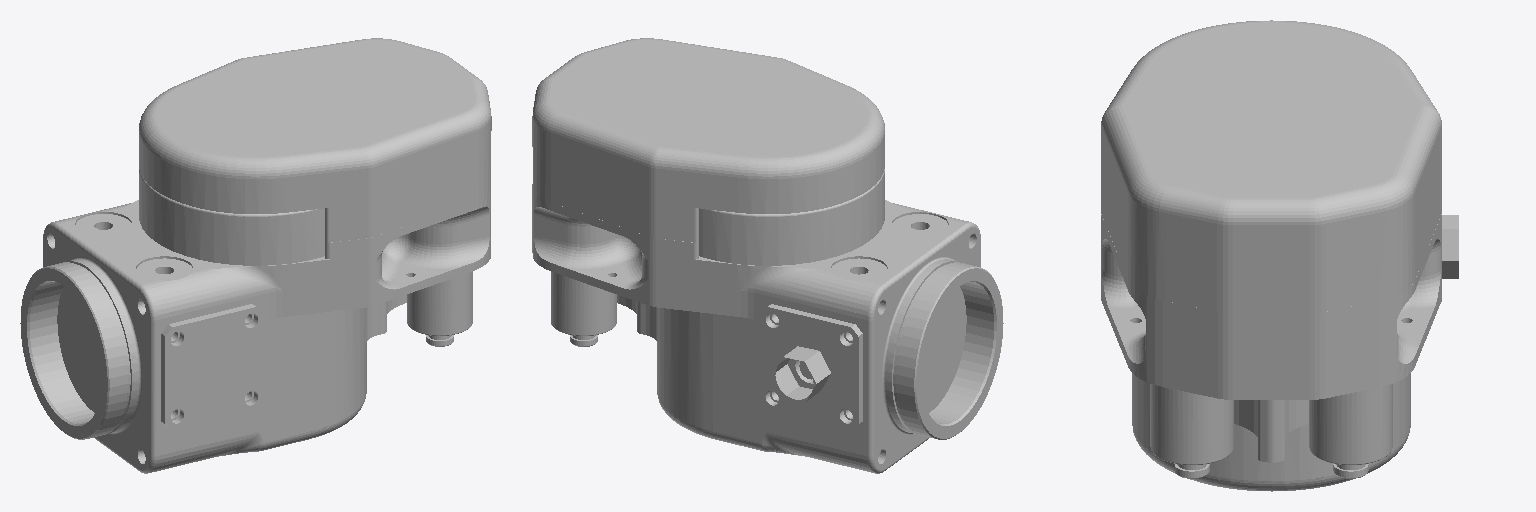
robot.urdf — hdt_arm:
<?xml version="1.0" ?>
<!-- =================================================================================== -->
<!-- |    This document was autogenerated by xacro from hdt_angler_a.xacro             | -->
<!-- |    EDITING THIS FILE BY HAND IS NOT RECOMMENDED                                 | -->
<!-- =================================================================================== -->
<robot name="hdt_arm" xmlns:xacro="http://wiki.ros.org/xacro">

  <!-- materials -->
  <material name="black">
    <color rgba="0.78431372549 0.78431372549 0.78431372549 1.0"/>
  </material>
  <material name="grey">
    <color rgba="0.250980392157 0.250980392157 0.250980392157 1.0"/>
  </material>
  <material name="yellow">
    <color rgba="0.941176470588 0.878431372549 0.250980392157 1.0"/>
  </material>
  <!-- segment 0 -->
  <link name="base_link"/>
  <!-- pedestal -->
  <joint name="pedestal_joint" type="fixed">
    <origin rpy="0 0 0" xyz="0 0 0"/>
    <parent link="base_link"/>
    <child link="pedestal_link"/>
  </joint>
  <link name="pedestal_link">
    <collision>
      <origin rpy="0 0 0" xyz="0 0 0"/>
      <geometry>
        <mesh filename="meshes/H026994 - A35 M-2 PEDESTAL ASSY - SHAREABLE.STL"/>
      </geometry>
    </collision>
    <visual>
      <origin rpy="0 0 0" xyz="0 0 0"/>
      <geometry>
        <mesh filename="meshes/H026994 - A35 M-2 PEDESTAL ASSY - SHAREABLE.STL"/>
      </geometry>
      <material name="black"/>
    </visual>
    <inertial>
      <origin rpy="0 0 0" xyz="0 0 0"/>
      <mass value="1"/>
      <inertia ixx="0.05" ixy="0.01" ixz="0.01" iyy="0.05" iyz="0.01" izz="0.05"/>
    </inertial>
  </link>
  <!-- drive 1 -->
  <joint name="drive1_joint" type="revolute">
    <axis xyz="0 0 1"/>
    <limit effort="60.0" lower="-6.28318530718" upper="6.28318530718" velocity="0.785398163397"/>
    <origin rpy="0 0 -1.57079632679" xyz="0 0 0.08335"/>
    <parent link="pedestal_link"/>
    <child link="drive1_link"/>
    <dynamics damping="10.7" friction="10.0"/>
  </joint>
  <link name="drive1_link">
    <collision>
      <origin rpy="0 0 0" xyz="0 0 0"/>
      <geometry>
        <mesh filename="meshes/H024840 - A35 M-2 DRIVE MODULE, SHAREABLE.STL"/>
      </geometry>
    </collision>
    <visual>
      <origin rpy="0 0 0" xyz="0 0 0"/>
      <geometry>
        <mesh filename="meshes/H024840 - A35 M-2 DRIVE MODULE, SHAREABLE.STL"/>
      </geometry>
      <material name="black"/>
    </visual>
    <inertial>
      <origin rpy="0 0 0" xyz="0 0 0"/>
      <mass value="1"/>
      <inertia ixx="0.05" ixy="0.01" ixz="0.01" iyy="0.05" iyz="0.01" izz="0.05"/>
    </inertial>
  </link>
  <!-- drive 2 -->
  <joint name="drive2_joint" type="revolute">
    <axis xyz="0 0 1"/>
    <limit effort="60.0" lower="-1.57079632679" upper="1.57079632679" velocity="0.785398163397"/>
    <origin rpy="0 -1.57079632679 0" xyz="0.07155 0 0"/>
    <parent link="drive1_link"/>
    <child link="drive2_link"/>
    <dynamics damping="10.7" friction="10.0"/>
  </joint>
  <link name="drive2_link">
    <collision>
      <origin rpy="3.14159265359 0 0" xyz="0 0 0"/>
      <geometry>
        <mesh filename="meshes/H024840 - A35 M-2 DRIVE MODULE, SHAREABLE.STL"/>
      </geometry>
    </collision>
    <visual>
      <origin rpy="3.14159265359 0 0" xyz="0 0 0"/>
      <geometry>
        <mesh filename="meshes/H024840 - A35 M-2 DRIVE MODULE, SHAREABLE.STL"/>
      </geometry>
      <material name="black"/>
    </visual>
    <inertial>
      <origin rpy="3.14159265359 0 0" xyz="0 0 0"/>
      <mass value="1"/>
      <inertia ixx="0.05" ixy="0.01" ixz="0.01" iyy="0.05" iyz="0.01" izz="0.05"/>
    </inertial>
  </link>
  <!-- humerus -->
  <joint name="humerus_joint" type="fixed">
    <origin rpy="0 0 0" xyz="0.17855 0 0"/>
    <parent link="drive2_link"/>
    <child link="humerus_link"/>
  </joint>
  <link name="humerus_link">
    <collision>
      <origin rpy="0 0 0" xyz="0 0 0"/>
      <geometry>
        <mesh filename="meshes/H024847 - A35 M-2 PROXIMAL TUBE ASSY - SHAREABLE.STL"/>
      </geometry>
    </collision>
    <visual>
      <origin rpy="0 0 0" xyz="0 0 0"/>
      <geometry>
        <mesh filename="meshes/H024847 - A35 M-2 PROXIMAL TUBE ASSY - SHAREABLE.STL"/>
      </geometry>
      <material name="black"/>
    </visual>
    <inertial>
      <origin rpy="0 0 0" xyz="0 0 0"/>
      <mass value="1"/>
      <inertia ixx="0.05" ixy="0.01" ixz="0.01" iyy="0.05" iyz="0.01" izz="0.05"/>
    </inertial>
  </link>
  <!-- elbow -->
  <joint name="elbow_joint" type="fixed">
    <origin rpy="0 0 0" xyz="0.17855 0 0"/>
    <parent link="humerus_link"/>
    <child link="elbow_link"/>
  </joint>
  <link name="elbow_link">
    <collision>
      <origin rpy="0 3.14159265359 0" xyz="0 0 0"/>
      <geometry>
        <mesh filename="meshes/H024840 - A35 M-2 DRIVE MODULE, SHAREABLE.STL"/>
      </geometry>
    </collision>
    <visual>
      <origin rpy="0 3.14159265359 0" xyz="0 0 0"/>
      <geometry>
        <mesh filename="meshes/H024840 - A35 M-2 DRIVE MODULE, SHAREABLE.STL"/>
      </geometry>
      <material name="black"/>
    </visual>
    <inertial>
      <origin rpy="0 3.14159265359 0" xyz="0 0 0"/>
      <mass value="1"/>
      <inertia ixx="0.05" ixy="0.01" ixz="0.01" iyy="0.05" iyz="0.01" izz="0.05"/>
    </inertial>
  </link>
  <!-- drive 3 -->
  <joint name="drive3_joint" type="revolute">
    <axis xyz="0 0 1"/>
    <!-- position limits to match parameter settings on actuator -->
    <limit effort="60.0" lower="-4.49" upper="1.35" velocity="0.785398163397"/>
    <origin rpy="0 0 0" xyz="0 0 0.07155"/>
    <parent link="elbow_link"/>
    <child link="drive3_link"/>
    <dynamics damping="10.7" friction="10.0"/>
  </joint>
  <link name="drive3_link">
    <collision>
      <origin rpy="0 1.57079632679 -1.57079632679" xyz="0 0 0"/>
      <geometry>
        <mesh filename="meshes/H024840 - A35 M-2 DRIVE MODULE, SHAREABLE.STL"/>
      </geometry>
    </collision>
    <visual>
      <origin rpy="0 1.57079632679 -1.57079632679" xyz="0 0 0"/>
      <geometry>
        <mesh filename="meshes/H024840 - A35 M-2 DRIVE MODULE, SHAREABLE.STL"/>
      </geometry>
      <material name="black"/>
    </visual>
    <inertial>
      <origin rpy="0 1.57079632679 -1.57079632679" xyz="0 0 0"/>
      <mass value="1"/>
      <inertia ixx="0.05" ixy="0.01" ixz="0.01" iyy="0.05" iyz="0.01" izz="0.05"/>
    </inertial>
  </link>
  <!-- drive 4 -->
  <joint name="drive4_joint" type="revolute">
    <axis xyz="0 0 1"/>
    <limit effort="60.0" lower="-6.28318530718" upper="6.28318530718" velocity="0.785398163397"/>
    <origin rpy="-1.57079632679 0 0" xyz="0 0.142 0"/>
    <parent link="drive3_link"/>
    <child link="drive4_link"/>
    <dynamics damping="10.7" friction="10.0"/>
  </joint>
  <link name="drive4_link">
    <collision>
      <origin rpy="3.14159265359 0 0" xyz="0 0 0"/>
      <geometry>
        <mesh filename="meshes/H024848 - A35 M-2 DISTAL TUBE ASSY - SHAREABLE.STL"/>
      </geometry>
    </collision>
    <visual>
      <origin rpy="3.14159265359 0 0" xyz="0 0 0"/>
      <geometry>
        <mesh filename="meshes/H024848 - A35 M-2 DISTAL TUBE ASSY - SHAREABLE.STL"/>
      </geometry>
      <material name="black"/>
    </visual>
    <inertial>
      <origin rpy="3.14159265359 0 0" xyz="0 0 0"/>
      <mass value="1"/>
      <inertia ixx="0.05" ixy="0.01" ixz="0.01" iyy="0.05" iyz="0.01" izz="0.05"/>
    </inertial>
  </link>
  <!-- wrist -->
  <joint name="wrist_joint" type="fixed">
    <origin rpy="1.57079632679 -1.57079632679 3.14159265359" xyz="0 0 0.12955"/>
    <parent link="drive4_link"/>
    <child link="wrist_link"/>
  </joint>
  <link name="wrist_link">
    <collision>
      <origin rpy="0 0 3.14159265359" xyz="0 0 0"/>
      <geometry>
        <mesh filename="meshes/H024840 - A35 M-2 DRIVE MODULE, SHAREABLE.STL"/>
      </geometry>
    </collision>
    <visual>
      <origin rpy="0 0 3.14159265359" xyz="0 0 0"/>
      <geometry>
        <mesh filename="meshes/H024840 - A35 M-2 DRIVE MODULE, SHAREABLE.STL"/>
      </geometry>
      <material name="black"/>
    </visual>
    <inertial>
      <origin rpy="0 0 3.14159265359" xyz="0 0 0"/>
      <mass value="1"/>
      <inertia ixx="0.05" ixy="0.01" ixz="0.01" iyy="0.05" iyz="0.01" izz="0.05"/>
    </inertial>
  </link>
  <!-- drive 5 -->
  <joint name="drive5_joint" type="revolute">
    <axis xyz="0 0 1"/>
    <limit effort="60.0" lower="-6.28318530718" upper="6.28318530718" velocity="0.785398163397"/>
    <origin rpy="3.14159265359 0 0" xyz="0 0 -0.07155"/>
    <parent link="wrist_link"/>
    <child link="drive5_link"/>
    <dynamics damping="10.7" friction="10.0"/>
  </joint>
  <link name="drive5_link">
    <collision>
      <origin rpy="0 1.57079632679 3.14159265359" xyz="0 0 0"/>
      <geometry>
        <mesh filename="meshes/H024840 - A35 M-2 DRIVE MODULE, SHAREABLE.STL"/>
      </geometry>
    </collision>
    <visual>
      <origin rpy="0 1.57079632679 3.14159265359" xyz="0 0 0"/>
      <geometry>
        <mesh filename="meshes/H024840 - A35 M-2 DRIVE MODULE, SHAREABLE.STL"/>
      </geometry>
      <material name="black"/>
    </visual>
    <inertial>
      <origin rpy="0 0 0" xyz="0 0 0"/>
      <mass value="1"/>
      <inertia ixx="0.05" ixy="0.01" ixz="0.01" iyy="0.05" iyz="0.01" izz="0.05"/>
    </inertial>
  </link>
  <!-- drive 6 -->
  <joint name="drive6_joint" type="revolute">
    <axis xyz="0 0 1"/>
    <limit effort="60.0" lower="-6.28318530718" upper="6.28318530718" velocity="0.785398163397"/>
    <origin rpy="0 1.57079632679 0" xyz="0.0885 0 0"/>
    <parent link="drive5_link"/>
    <child link="drive6_link"/>
    <dynamics damping="10.7" friction="10.0"/>
  </joint>
  <link name="drive6_link">
    <collision>
      <origin rpy="0 1.57079632679 -1.57079632679" xyz="0 0 0"/>
      <geometry>
        <mesh filename="meshes/H024842 - A35 M-2 PINCER ASSY - SHAREABLE, UNDERWATER.STL"/>
      </geometry>
    </collision>
    <visual>
      <origin rpy="0 1.57079632679 -1.57079632679" xyz="0 0 0"/>
      <geometry>
        <mesh filename="meshes/H024842 - A35 M-2 PINCER ASSY - SHAREABLE, UNDERWATER.STL"/>
      </geometry>
      <material name="black"/>
    </visual>
    <inertial>
      <origin rpy="0 0 0" xyz="0 0 0"/>
      <mass value="1"/>
      <inertia ixx="0.05" ixy="0.01" ixz="0.01" iyy="0.05" iyz="0.01" izz="0.05"/>
    </inertial>
  </link>
  <!-- Pincers -->
  <joint name="pincer_joint" type="revolute">
    <hdt id="10" inertia="0.075" kmax="150" kmin="75"/>
    <axis xyz="0 0 1"/>
    <limit effort="60.0" lower="-0.2" upper="0.9" velocity="0.5"/>
    <origin rpy="-1.57079632679 -1.57079632679 0" xyz="0.0135 0 0.0375"/>
    <parent link="drive6_link"/>
    <child link="pincer_link"/>
    <dynamics damping="10.7" friction="10.0"/>
  </joint>
  <link name="pincer_link">
    <collision>
      <origin rpy="3.14159265359 0 0" xyz="0 0 0"/>
      <geometry>
        <mesh filename="meshes/H022927 - A35 PINCER FINGER, LONG, OVERMOLD ASSY - SHAREABLE.STL"/>
      </geometry>
    </collision>
    <visual>
      <origin rpy="3.14159265359 0 0" xyz="0 0 0"/>
      <geometry>
        <mesh filename="meshes/H022927 - A35 PINCER FINGER, LONG, OVERMOLD ASSY - SHAREABLE.STL"/>
      </geometry>
      <material name="black"/>
    </visual>
    <inertial>
      <origin rpy="0 0 0" xyz="0 0 0"/>
      <mass value="1"/>
      <inertia ixx="0.05" ixy="0.01" ixz="0.01" iyy="0.05" iyz="0.01" izz="0.05"/>
    </inertial>
  </link>
  <!-- EE 2 -->
  <!-- THIS IS THE SECOND PINCER, NEEDS TO MOVE EQUAL BUT OPPOSITE AS PINCER 1 -->
  <joint name="pincer_joint2" type="revolute">
    <!--<hdt id="10b" kmin="75" kmax="150" inertia="0.075"/>-->
    <axis xyz="0 0 1"/>
    <origin rpy="-1.57079632679 -1.57079632679 3.14159265359" xyz="-0.0135 0 0.0375"/>
    <parent link="drive6_link"/>
    <child link="pincer_link2"/>
    <calibration rising="0.0"/>
    <dynamics damping="10.7" friction="10.0"/>
    <limit effort="60.0" lower="-0.2" upper="1" velocity="0.5"/>
    <mimic joint="pincer_joint" multiplier="1" offset="0.0"/>
  </joint>
  <link name="pincer_link2">
    <collision>
      <origin rpy="3.14159265359 0 0" xyz="0 0 0"/>
      <geometry>
        <mesh filename="meshes/H022927 - A35 PINCER FINGER, LONG, OVERMOLD ASSY - SHAREABLE.STL"/>
      </geometry>
    </collision>
    <visual>
      <origin rpy="3.14159265359 0 0" xyz="0 0 0"/>
      <geometry>
        <mesh filename="meshes/H022927 - A35 PINCER FINGER, LONG, OVERMOLD ASSY - SHAREABLE.STL"/>
      </geometry>
      <material name="black"/>
    </visual>
    <inertial>
      <origin rpy="0 0 0" xyz="0 0 0"/>
      <mass value="1"/>
      <inertia ixx="0.05" ixy="0.01" ixz="0.01" iyy="0.05" iyz="0.01" izz="0.05"/>
    </inertial>
  </link>
  <!-- endpoint -->
  <joint name="endpoint_joint" type="fixed">
    <origin rpy="1.57079632679 -1.57079632679 0" xyz="0 0 0.1"/>
    <parent link="drive6_link"/>
    <child link="endpoint_link"/>
  </joint>
  <link name="endpoint_link">
    </link>
</robot>

--- Facts derived from the render (not from the file) ---
3 views of the same robot in one strip: view 1: azimuth 30°, elevation 25°; view 2: azimuth 150°, elevation 25°; view 3: azimuth 270°, elevation 25° (orthographic).
Model hdt_arm with 14 links and 13 joints (8 revolute, 5 fixed), rooted at base_link, posed every joint at zero.
Links seen in each view (by area): view 1: drive6_link; view 2: drive6_link; view 3: drive6_link.
Boxes of the visible links, x1=… form: drive6_link: x1=20, y1=38, x2=491, y2=473; drive6_link: x1=532, y1=38, x2=1003, y2=473; drive6_link: x1=1101, y1=20, x2=1458, y2=491.
Size in the robot's own frame: 0.1 by 0.0608 by 0.0708 metres.
1 mesh visuals loaded from 6 distinct referenced files (1 binary STL); not drawn: 11 (reference not matched to a file when rendering).